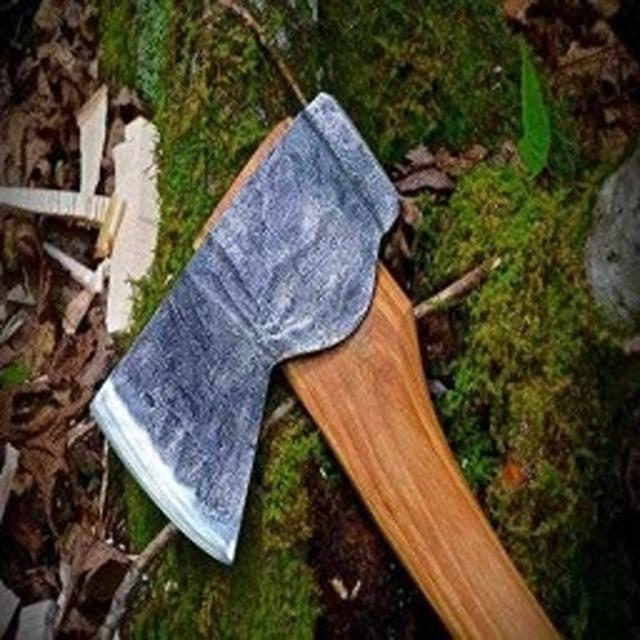ax: (76, 80, 566, 640)
